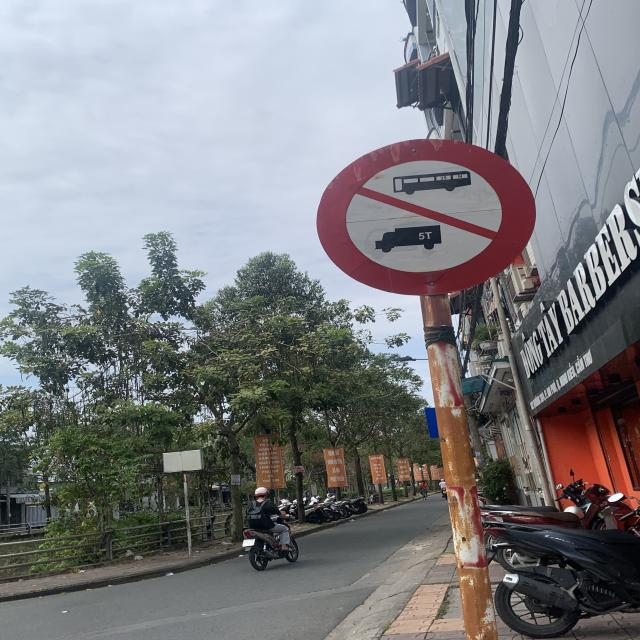Cam_XeTai_XeKhach: (317, 140, 538, 294)
